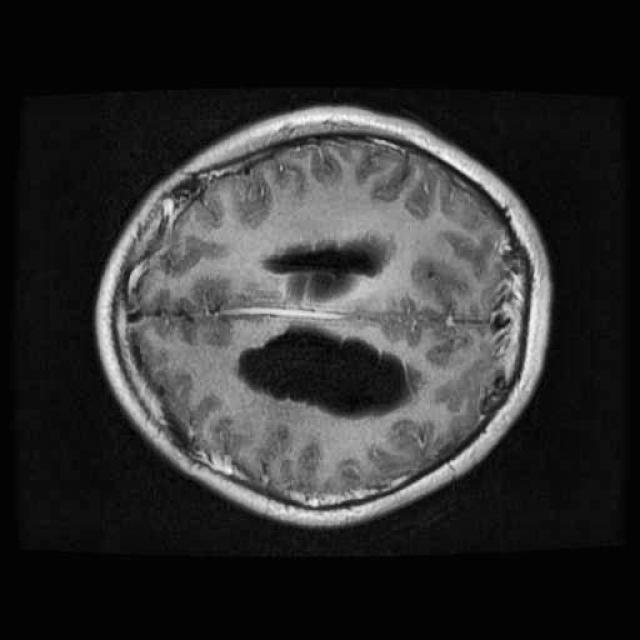Non-Tumor: (221, 306, 428, 428)
